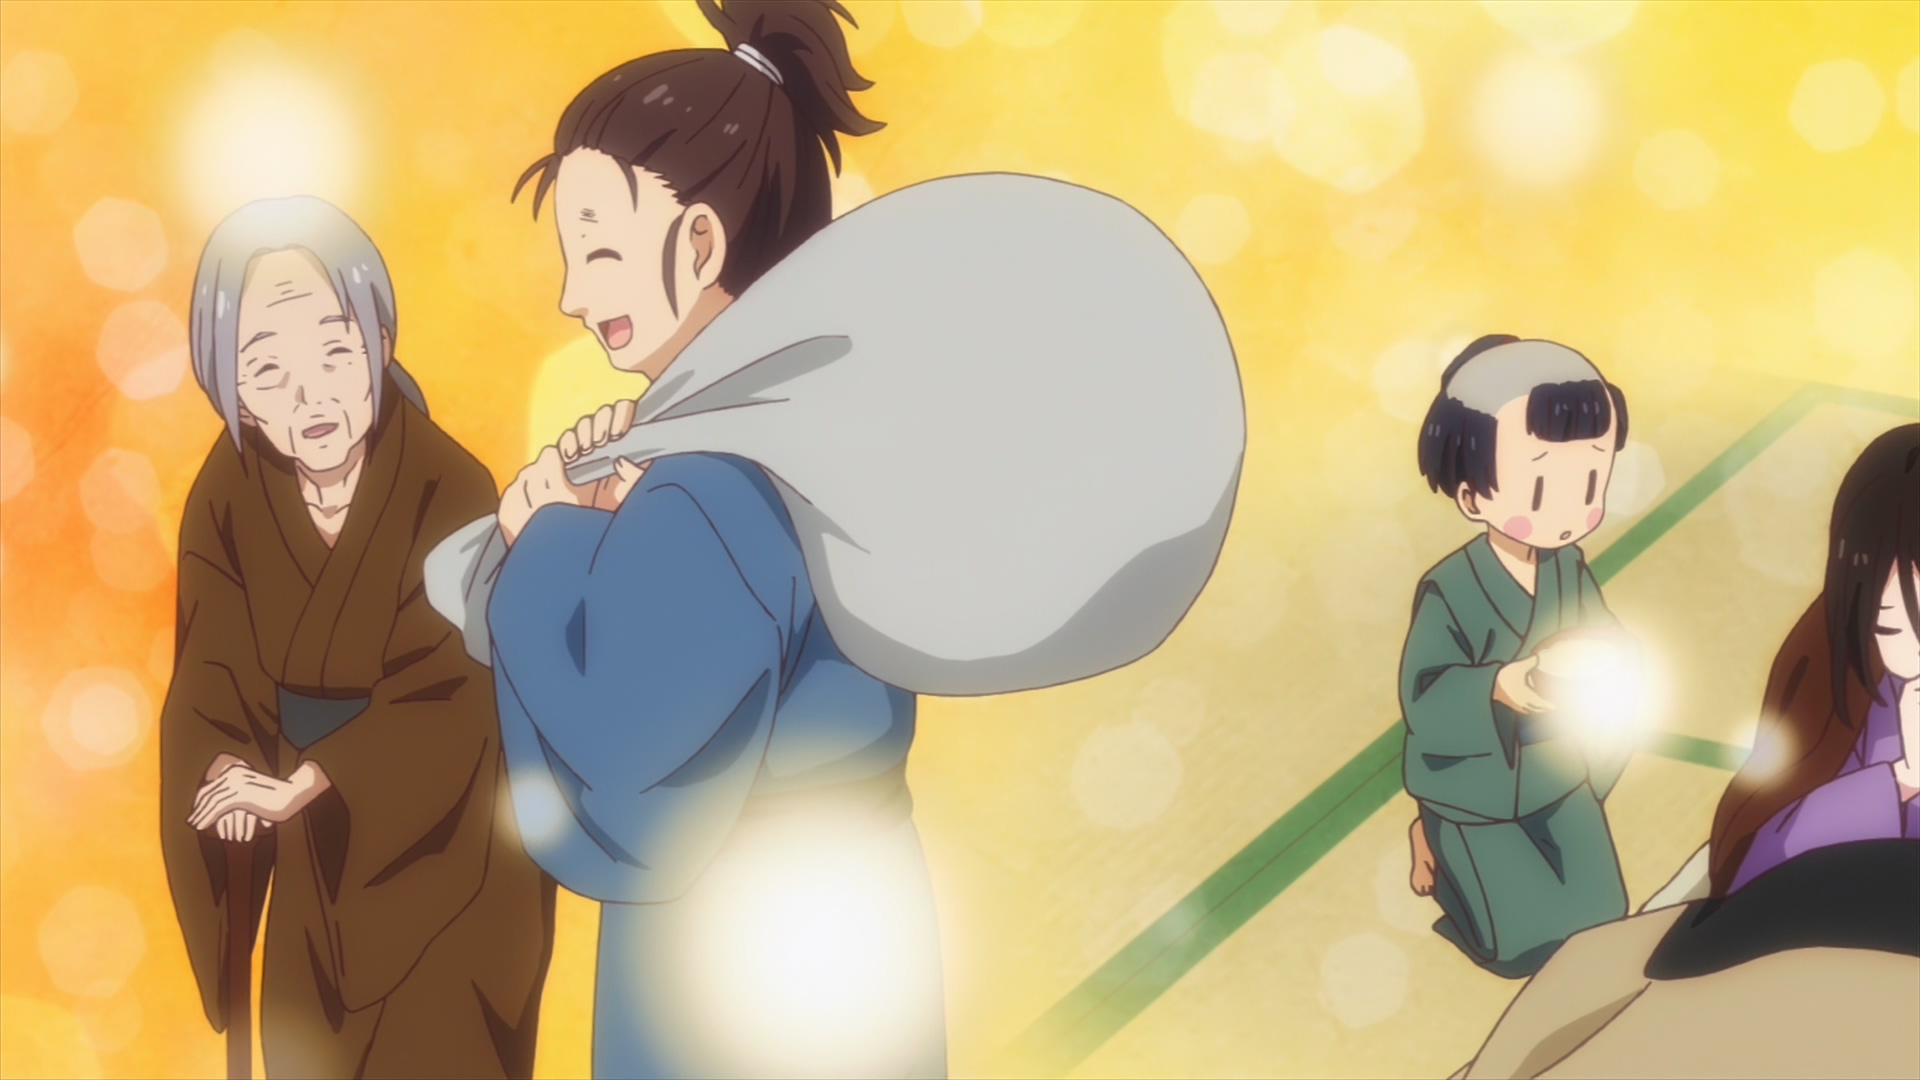其他: (489, 1, 945, 1080), (160, 196, 558, 1080), (1398, 335, 1654, 980), (1709, 422, 1920, 901)
